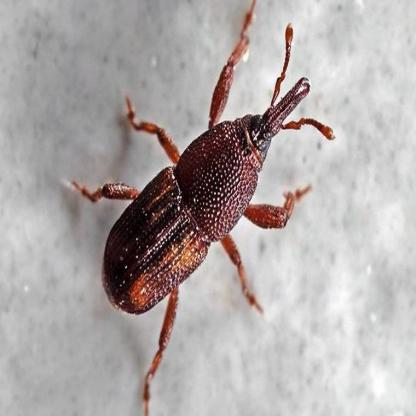rice-bug: (98, 55, 312, 328)
